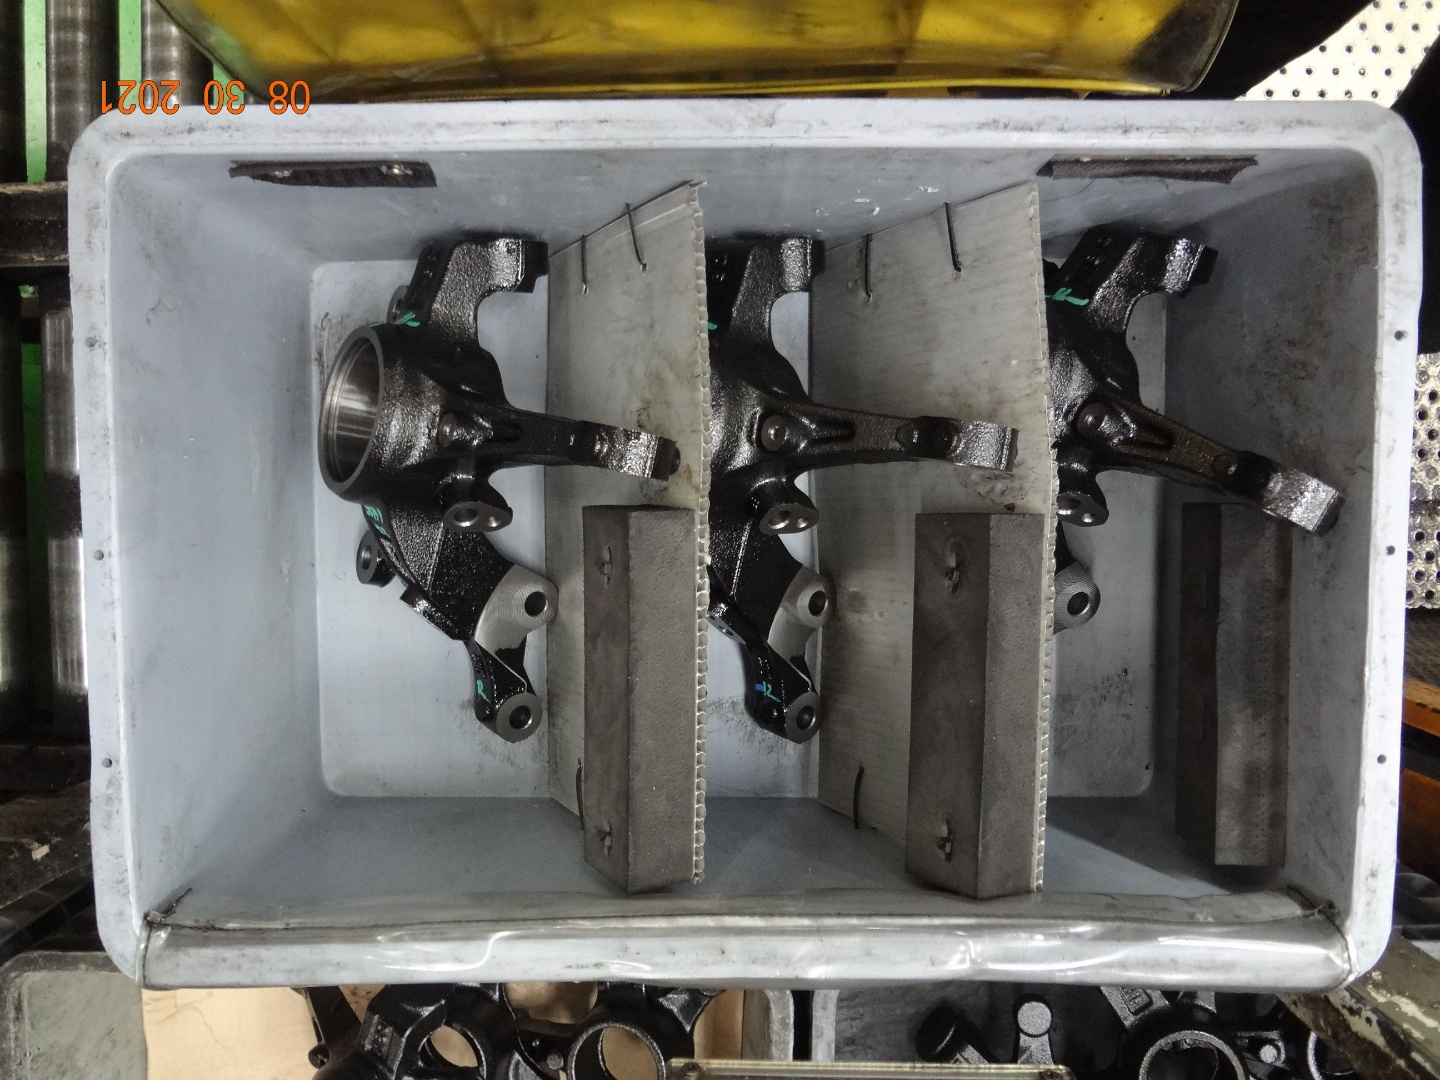abs-rh: (314, 223, 685, 749), (691, 221, 1022, 756), (1030, 214, 1352, 753)
